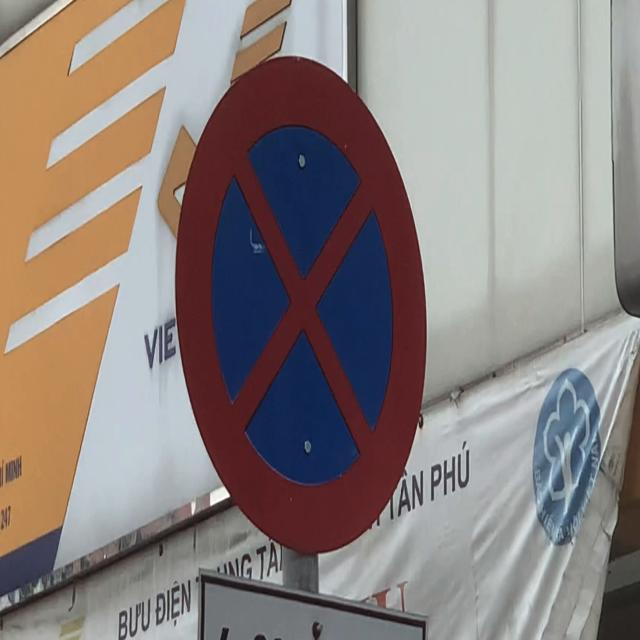Cam dung va do: (174, 54, 428, 556)
